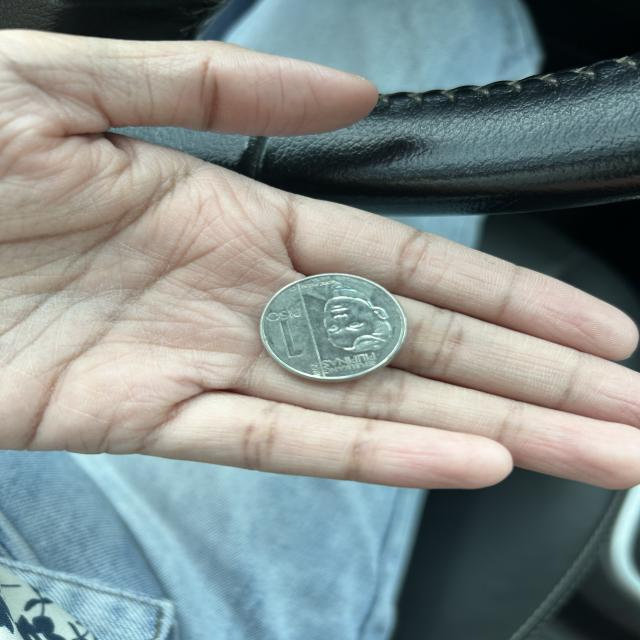1_New_Front: (266, 302, 318, 361)
